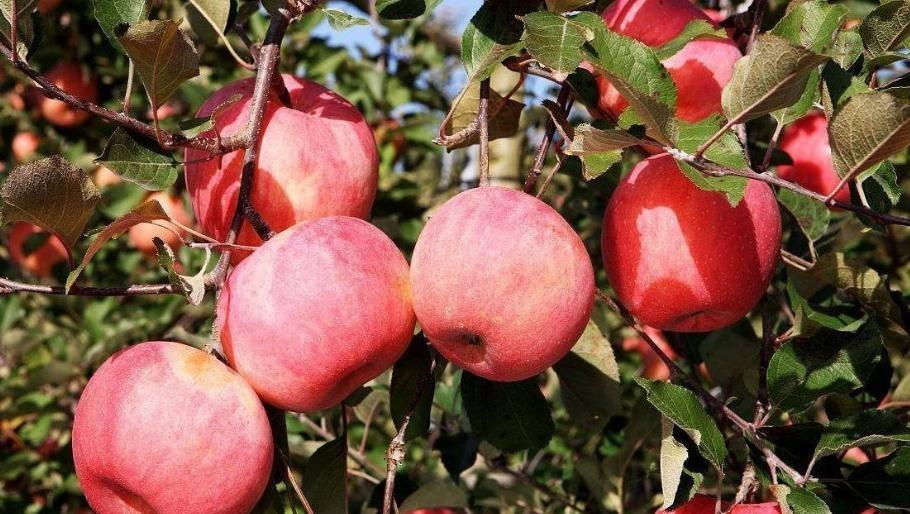apple: (212, 216, 415, 410), (172, 68, 384, 245), (72, 338, 276, 513), (412, 189, 594, 383), (601, 157, 782, 332)
